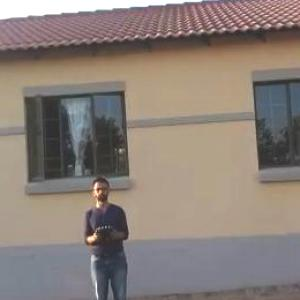follow: (81, 170, 136, 298)
